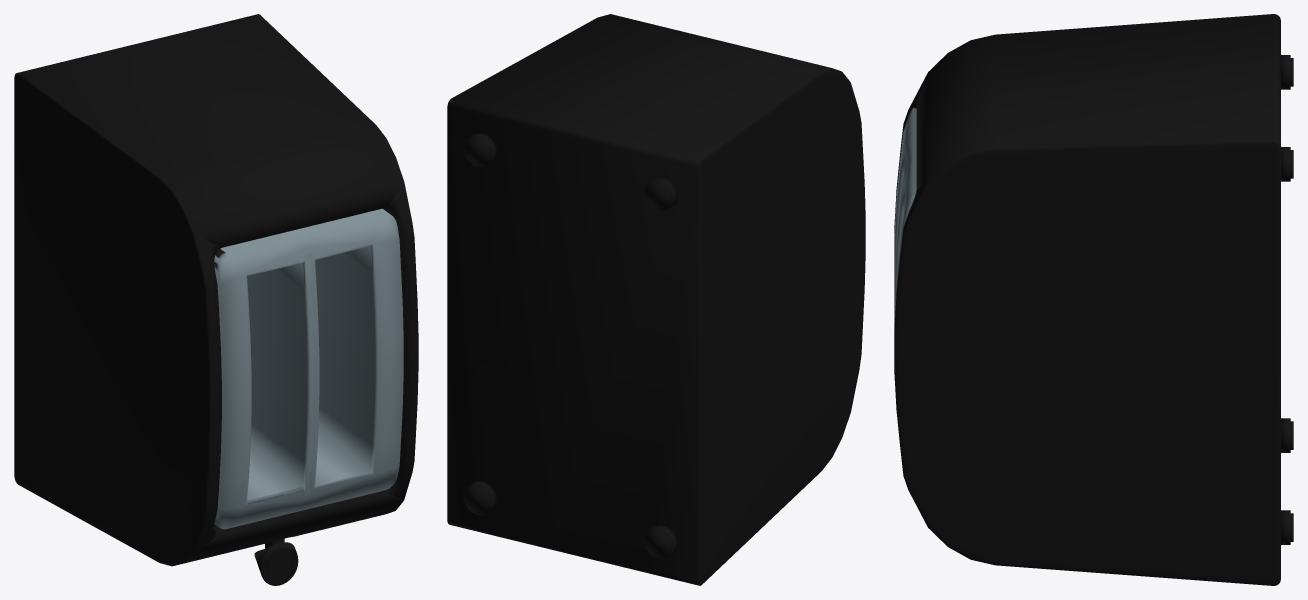
Rendered from toaster.gltf.
3 renders of one model, left to right at view 1: azimuth 30°, elevation 25°; view 2: azimuth 150°, elevation 25°; view 3: azimuth 270°, elevation 25°, orthographic. The views are drawn at different scales.
Parts seen in each view (by area): view 1: Toaster; view 2: Toaster; view 3: Toaster.
Boxes of the visible parts, <box> form: Toaster: <box>14,14,418,585</box>; Toaster: <box>447,14,865,585</box>; Toaster: <box>894,14,1293,585</box>.
Size of the model in its own units: 2.45 by 4.21 by 3.21.
1 material, 1 textured.
